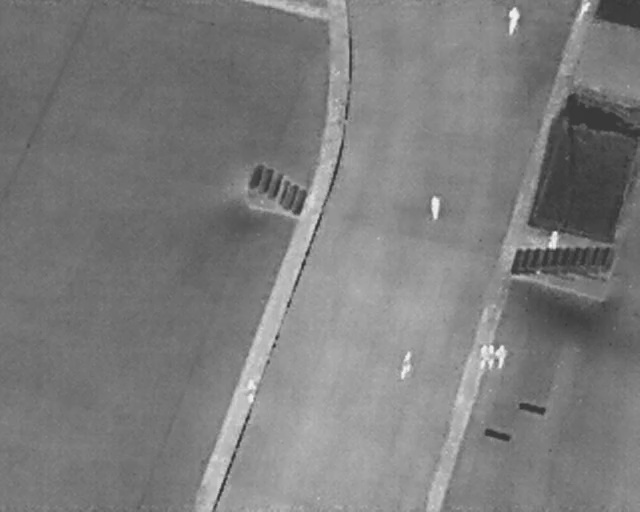Person: (396, 346, 416, 382), (506, 5, 521, 37), (427, 192, 443, 222), (494, 342, 508, 369), (477, 343, 490, 368), (487, 343, 497, 370), (548, 228, 559, 249)
